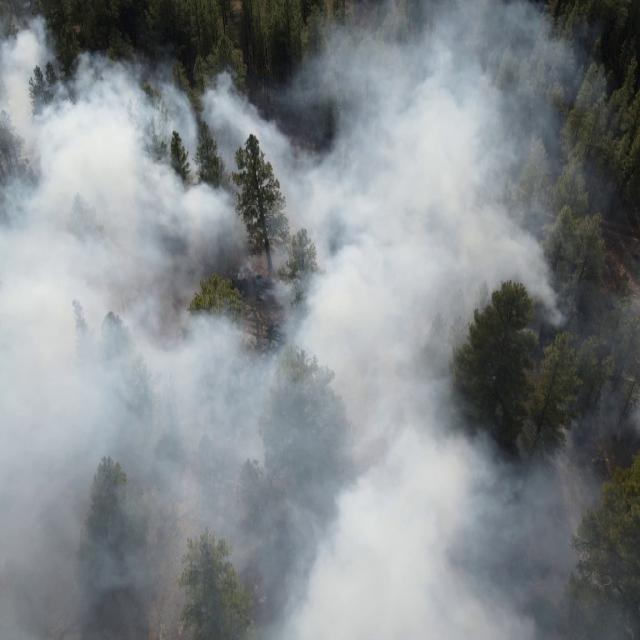smoke: (198, 71, 456, 640), (50, 52, 197, 640), (455, 424, 640, 640), (456, 71, 614, 283), (0, 0, 51, 640), (296, 0, 586, 71), (575, 286, 640, 422), (526, 283, 570, 327), (456, 284, 481, 350), (482, 283, 500, 303)
